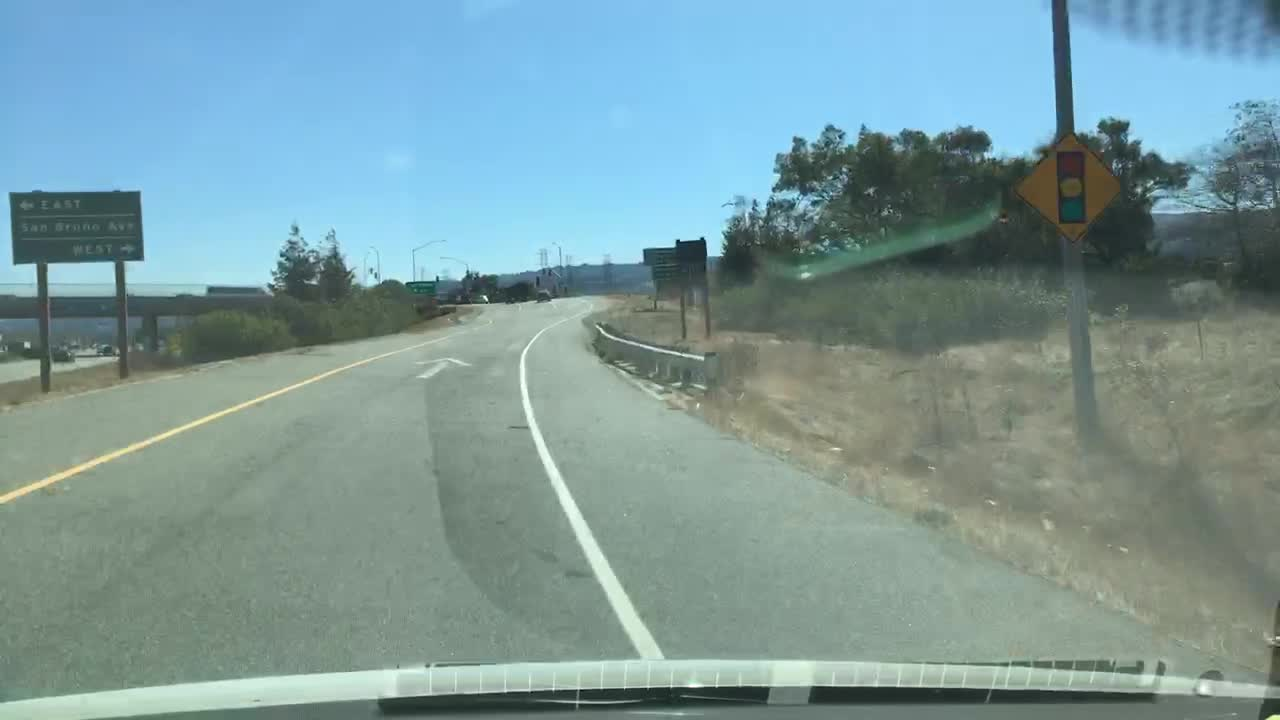car: (203, 284, 263, 296), (46, 341, 78, 362), (18, 342, 41, 358), (468, 292, 493, 303), (535, 287, 554, 300), (98, 342, 113, 358), (128, 339, 145, 352), (503, 290, 517, 304)
traffic sign: (1010, 131, 1119, 243), (7, 189, 144, 263), (676, 235, 705, 289), (643, 247, 673, 266), (404, 280, 434, 293), (652, 269, 675, 283)
